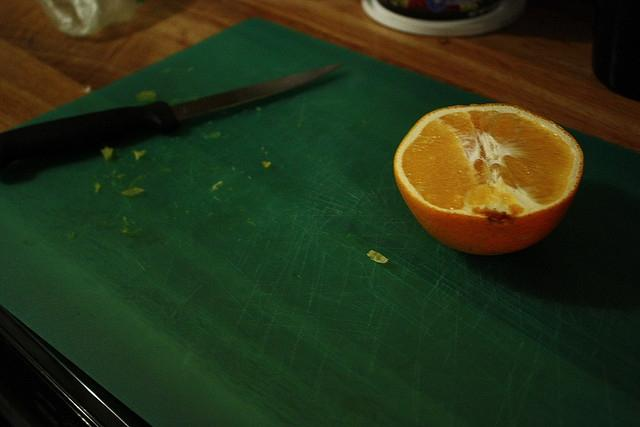orange: (393, 103, 584, 257)
